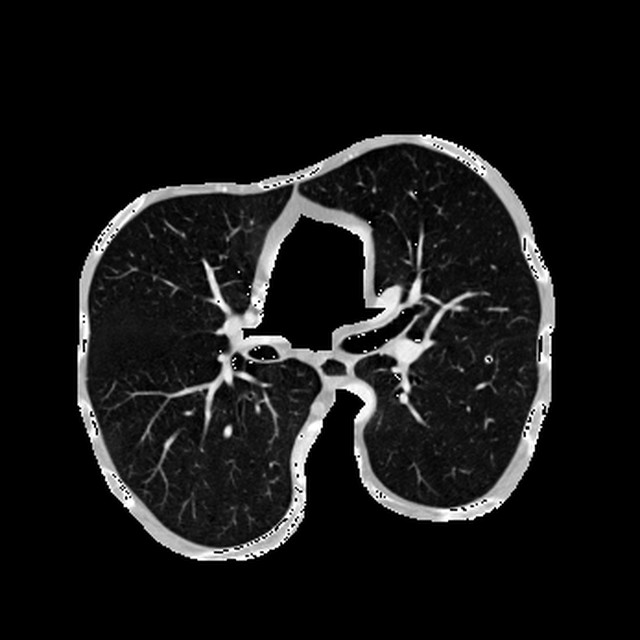PN: (485, 354, 492, 361)
